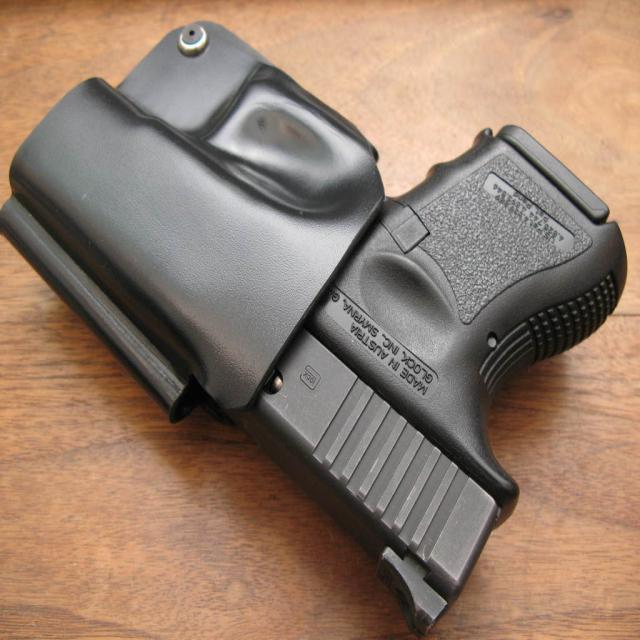Gun: (0, 22, 626, 630)
